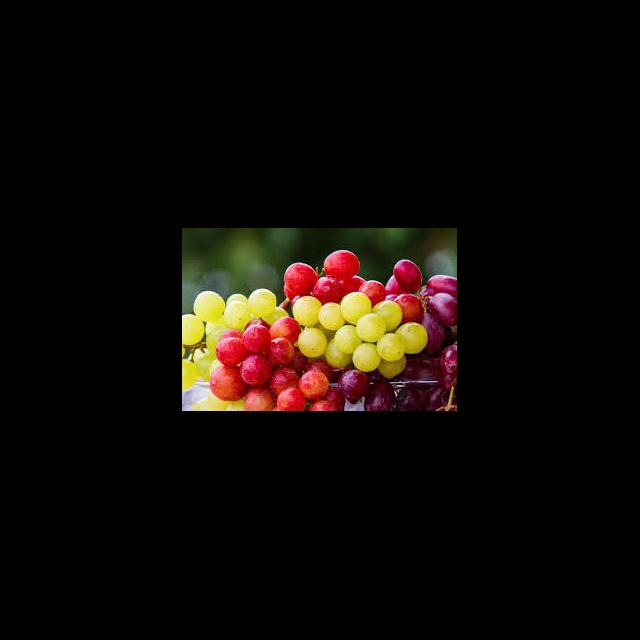grape: (182, 250, 456, 410)
